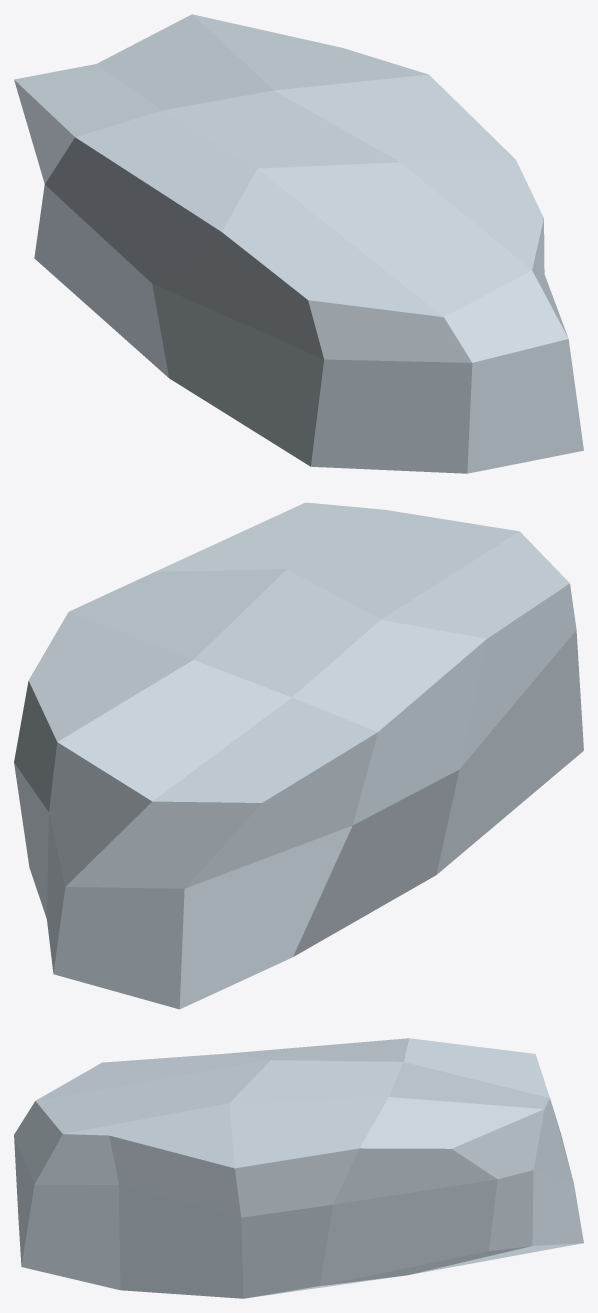
Rendered from Rock_16Color2.fbx.
3 renders of one model, top to bottom at view 1: azimuth 30°, elevation 25°; view 2: azimuth 150°, elevation 25°; view 3: azimuth 270°, elevation 25°, orthographic. The views are drawn at different scales.
Visible parts, largest first — view 1: Rock_16; view 2: Rock_16; view 3: Rock_16.
Part boxes in pixels (<box>): Rock_16: <box>14,14,583,473</box>; Rock_16: <box>14,502,583,1009</box>; Rock_16: <box>14,1038,583,1298</box>.
Size of the model in its own units: 325 by 211 by 642.
